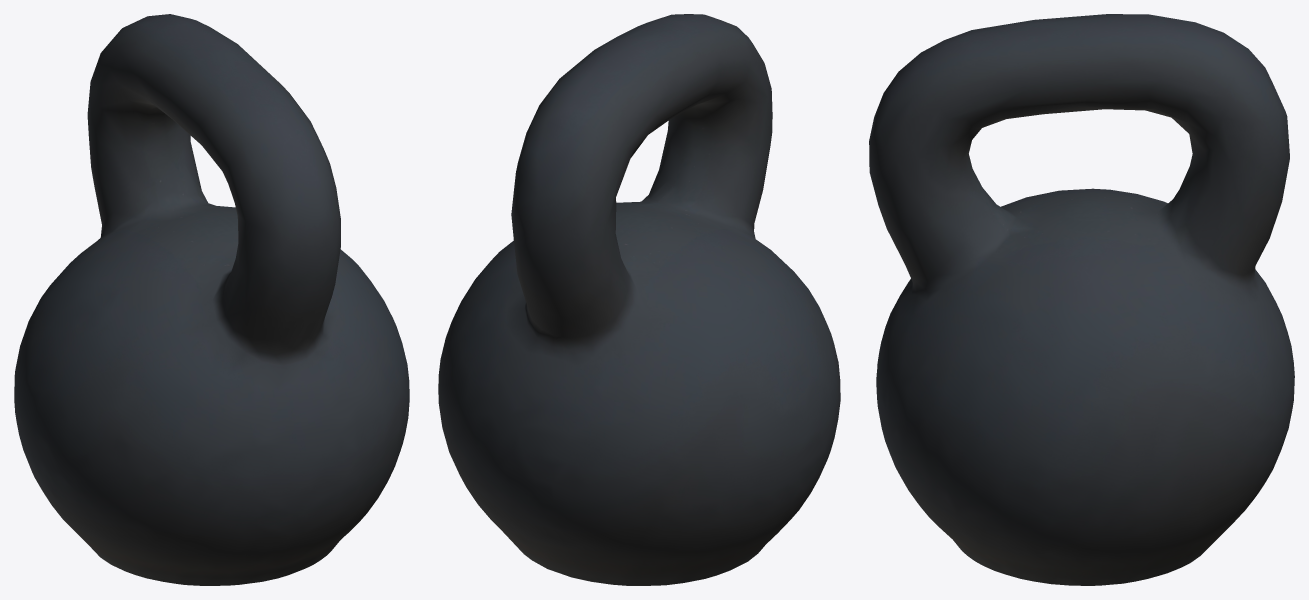
Rendered from kettlebell.glb.
The picture shows the model from 3 angles, left to right: view 1: azimuth 30°, elevation 25°; view 2: azimuth 150°, elevation 25°; view 3: azimuth 270°, elevation 25°; orthographic projection. The views are drawn at different scales.
Parts seen in each view (by area): view 1: tripo_node_e11ec757-841d-4847-94b0-d43e8d13f4c2; view 2: tripo_node_e11ec757-841d-4847-94b0-d43e8d13f4c2; view 3: tripo_node_e11ec757-841d-4847-94b0-d43e8d13f4c2.
Boxes of the visible parts, <box> form: tripo_node_e11ec757-841d-4847-94b0-d43e8d13f4c2: <box>14,14,409,585</box>; tripo_node_e11ec757-841d-4847-94b0-d43e8d13f4c2: <box>438,14,840,585</box>; tripo_node_e11ec757-841d-4847-94b0-d43e8d13f4c2: <box>869,14,1294,585</box>.
Size of the model in its own units: 0.7351 by 1 by 0.7542.
Materials: 1 (1 with a texture image).
